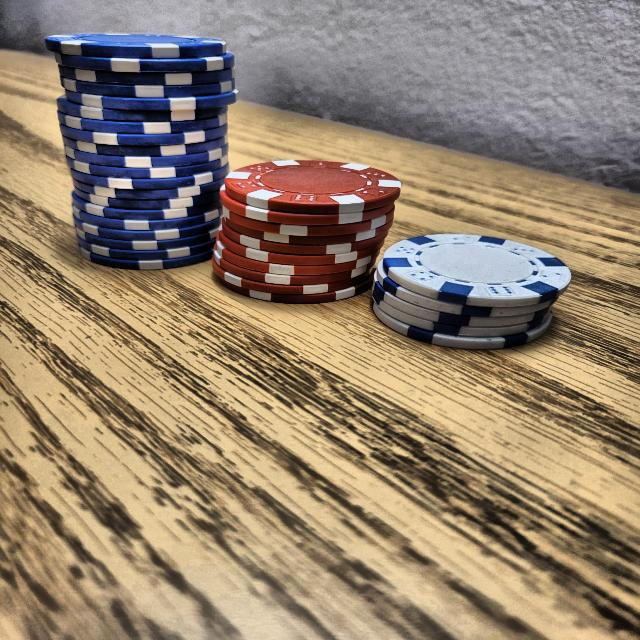Chip: (38, 16, 250, 290), (207, 134, 405, 319), (362, 210, 574, 363)
